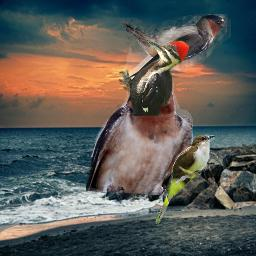Cuckoo: (155, 134, 215, 224)
Swallow: (86, 62, 193, 204), (121, 14, 231, 85)
Woodpecker: (119, 39, 189, 116)
